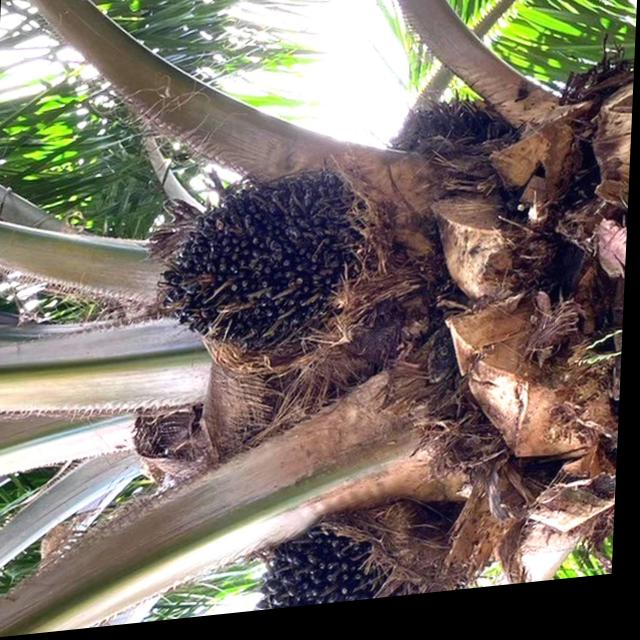unripe: (163, 167, 374, 366)
